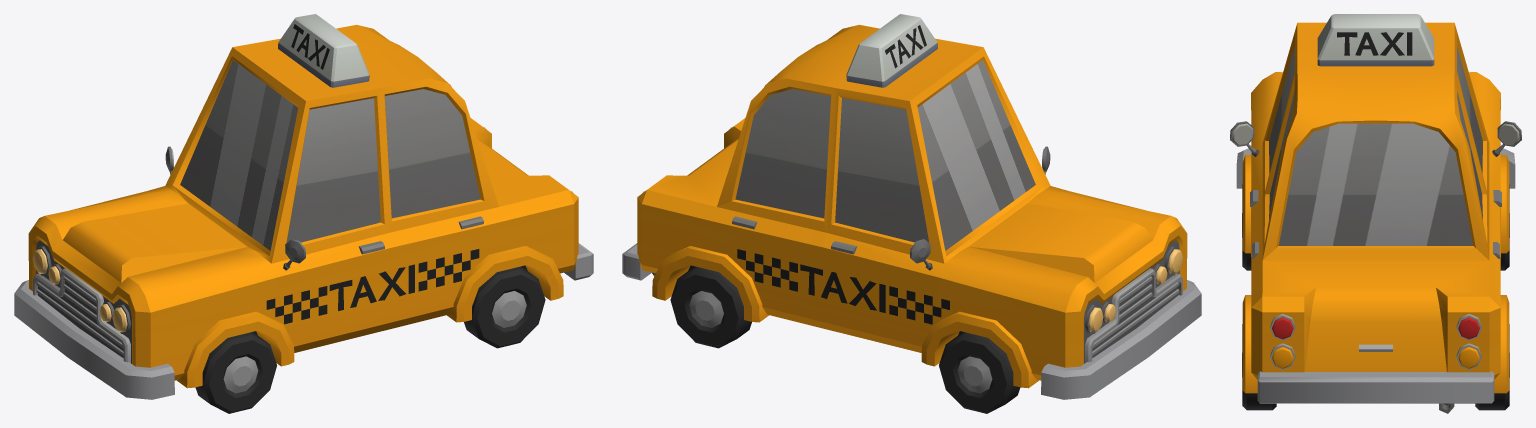
Rendered from Taxi_5.gltf.
3 renders of one model, left to right at view 1: azimuth 30°, elevation 25°; view 2: azimuth 150°, elevation 25°; view 3: azimuth 270°, elevation 25°, orthographic. The views are drawn at different scales.
Visible parts, largest first — view 1: Taxi_5, FL, RL; view 2: Taxi_5, FR, RR; view 3: Taxi_5, RL, RR.
Boxes of the visible parts, x1,y1,x2,y2 form: Taxi_5: (14,14,593,399); FL: (195,332,276,413); RL: (464,266,545,348); Taxi_5: (622,14,1201,399); FR: (939,332,1020,413); RR: (670,266,751,348); Taxi_5: (1230,14,1521,413); RL: (1242,324,1276,410); RR: (1475,324,1509,410).
Size of the model in its own units: 3.38 by 2.07 by 1.7.
Materials: 4 (4 with a texture image).
